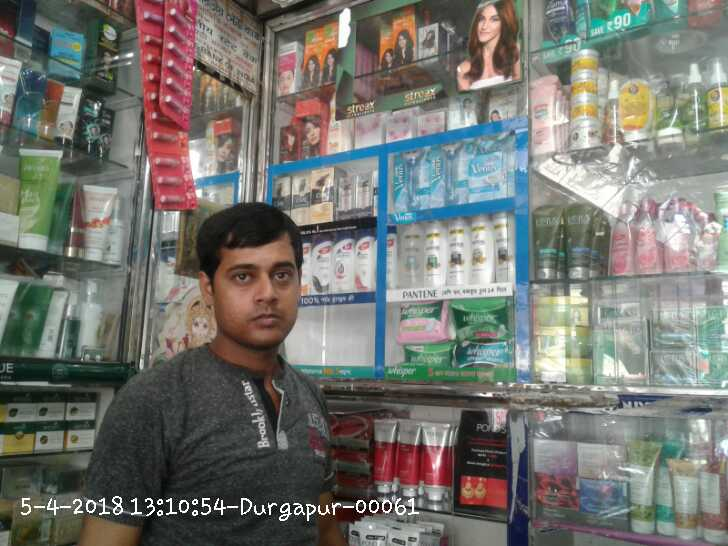venus: (469, 150, 505, 201), (394, 149, 422, 211), (423, 147, 447, 207)
